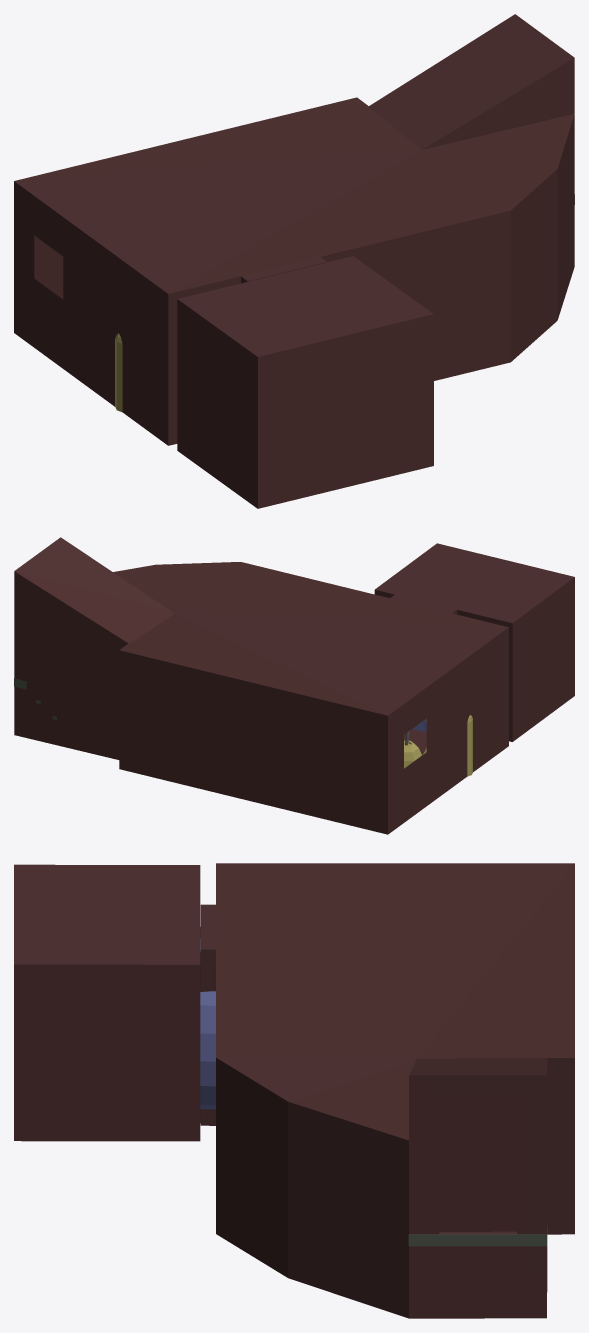
The model's file is RoomMockup02.fbx.
3 renders of one model, top to bottom at view 1: azimuth 30°, elevation 25°; view 2: azimuth 150°, elevation 25°; view 3: azimuth 270°, elevation 25°, orthographic. The views are drawn at different scales.
Visible parts, largest first — view 1: pPlane1, pPlane2; view 2: pPlane1, pPlane2; view 3: pPlane1, pPlane2, pSphere4, pCube1.
Part boxes in pixels (bbox=[...]): pPlane1: bbox=[14, 14, 574, 445]; pPlane2: bbox=[177, 256, 433, 508]; pPlane1: bbox=[14, 537, 508, 834]; pPlane2: bbox=[374, 543, 574, 741]; pPlane1: bbox=[200, 863, 574, 1318]; pPlane2: bbox=[14, 864, 200, 1141]; pSphere4: bbox=[200, 938, 215, 1109]; pCube1: bbox=[408, 1225, 547, 1246].
Size of the model in its own units: 50.33 by 21.24 by 42.8.
